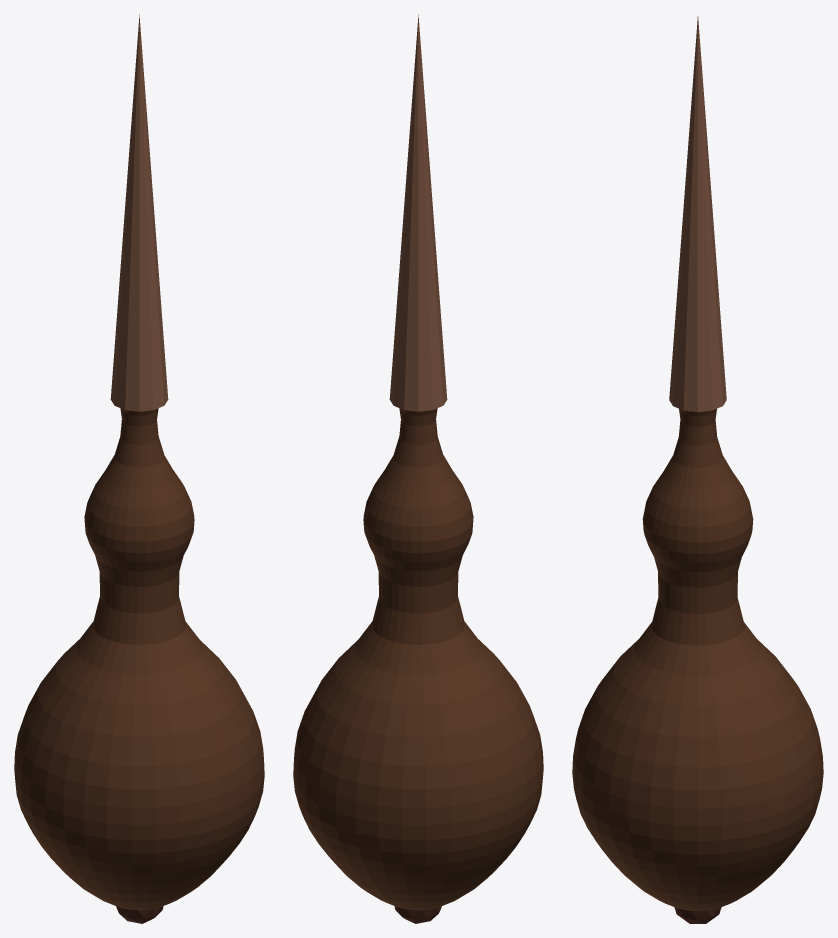
The model's file is Wand 620.glb.
3 views of the same model, side by side, from view 1: azimuth 30°, elevation 25°; view 2: azimuth 150°, elevation 25°; view 3: azimuth 270°, elevation 25° (orthographic).
Parts seen in each view (by area): view 1: GeneratedWand; view 2: GeneratedWand; view 3: GeneratedWand.
Boxes of the visible parts, x1=… form: GeneratedWand: x1=14, y1=14, x2=264, y2=923; GeneratedWand: x1=293, y1=14, x2=543, y2=923; GeneratedWand: x1=572, y1=16, x2=823, y2=923.
Bounding box in the file's own units: 0.123 × 0.4907 × 0.123.
